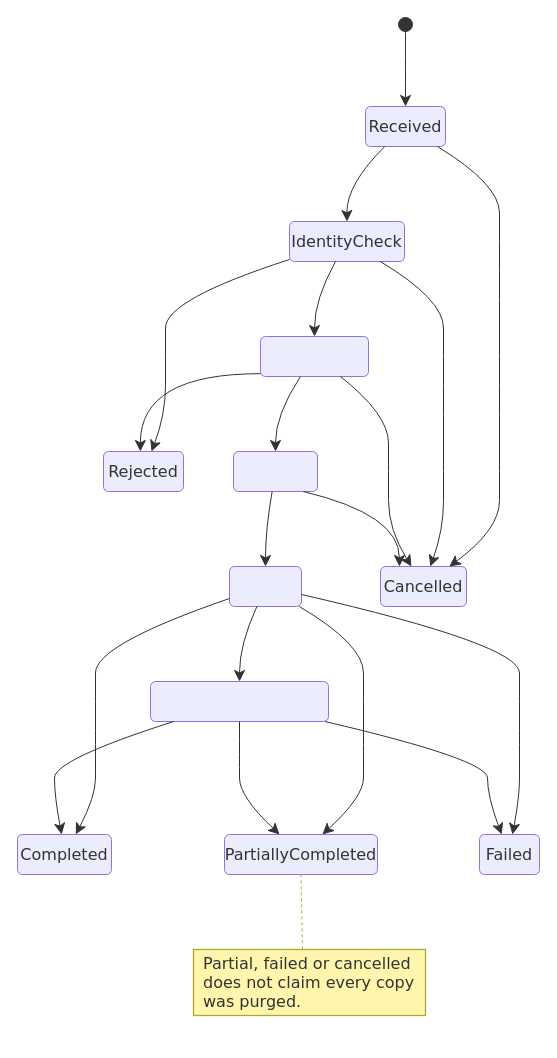
The diagram is 557 pixels wide and 1058 high, and some of its shapes have lost their labels. The centre of each missing label's shape, as x and y in pixels:
"Approved" goes at (275,471).
"AwaitingExternalPurge" goes at (239,701).
"Running" goes at (265,586).
"ScopeReview" goes at (314,356).
